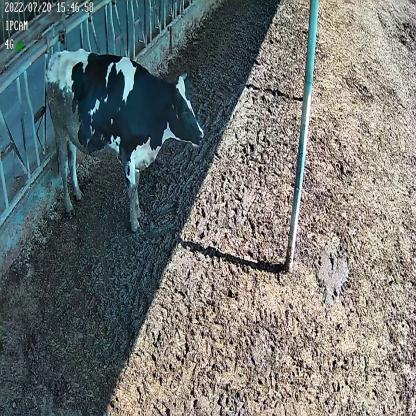cow: (43, 48, 205, 232)
